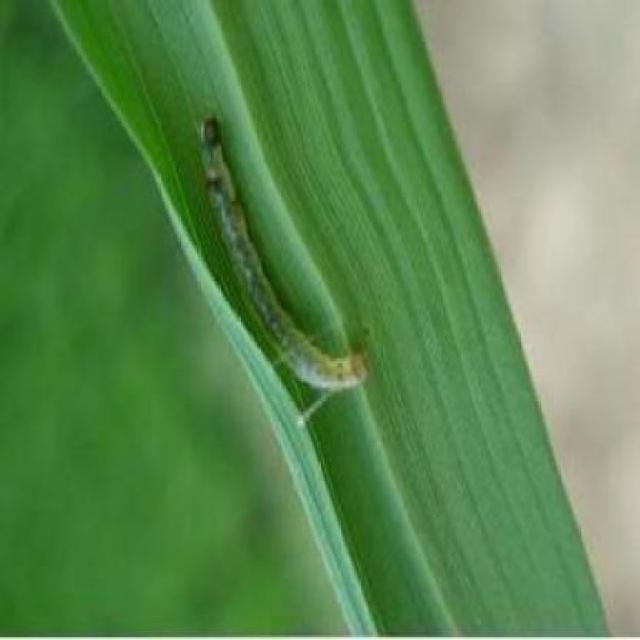leaf-folder: (182, 106, 384, 462)
